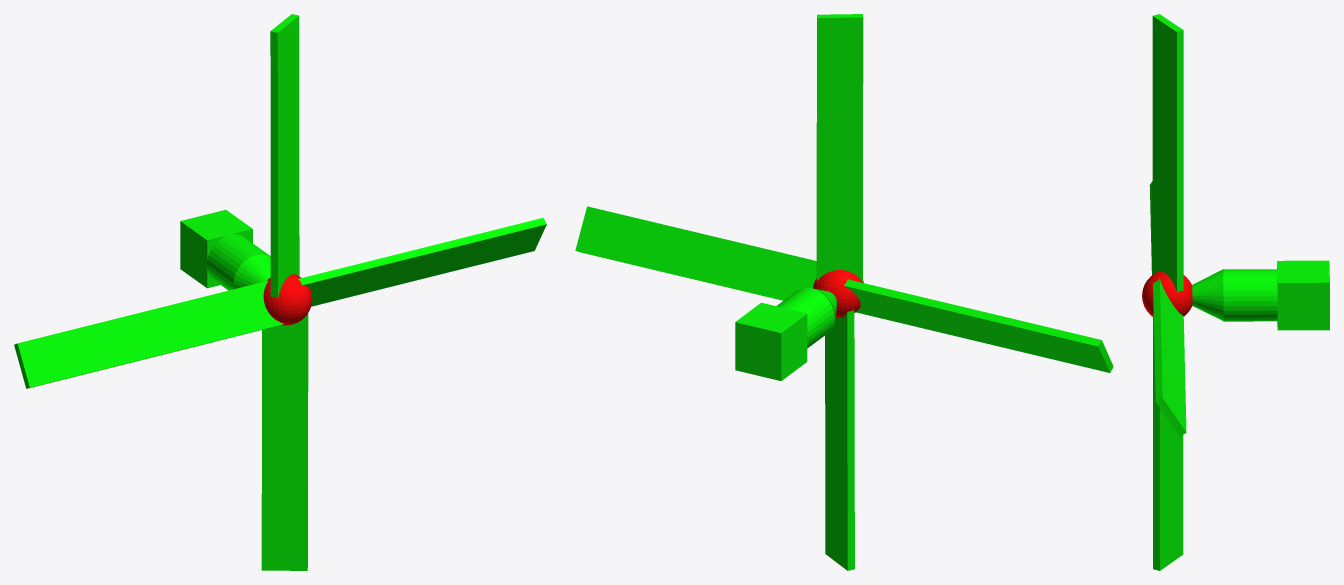
Rendered from Propeller.fbx.
3 views of the same model, side by side, from view 1: azimuth 30°, elevation 25°; view 2: azimuth 150°, elevation 25°; view 3: azimuth 270°, elevation 25° (orthographic).
Parts seen in each view (by area): view 1: Cube.004, Cube.002, Cube.003, Cube.001, Cube, Cylinder, Sphere, Cone; view 2: Cube.003, Cube.001, Cube.004, Cube.002, Cube, Cylinder, Sphere; view 3: Cube.003, Cube.002, Cube.001, Cube, Cylinder, Sphere, Cone.
Boxes of the visible parts, left/top/right/bottom form: Cube.004: left=14, top=280, right=283, bottom=388; Cube.002: left=261, top=313, right=308, bottom=570; Cube.003: left=270, top=14, right=299, bottom=297; Cube.001: left=298, top=218, right=546, bottom=306; Cube: left=180, top=209, right=252, bottom=288; Cylinder: left=207, top=234, right=270, bottom=290; Sphere: left=263, top=274, right=312, bottom=325; Cone: left=233, top=254, right=270, bottom=288; Cube.003: left=816, top=14, right=863, bottom=282; Cube.001: left=575, top=206, right=816, bottom=300; Cube.004: left=844, top=279, right=1113, bottom=372; Cube.002: left=825, top=310, right=854, bottom=570; Cube: left=735, top=302, right=807, bottom=381; Cylinder: left=776, top=287, right=834, bottom=348; Sphere: left=813, top=270, right=863, bottom=317; Cube.003: left=1152, top=14, right=1183, bottom=292; Cube.002: left=1153, top=315, right=1183, bottom=570; Cube.001: left=1153, top=279, right=1186, bottom=436; Cube: left=1277, top=260, right=1329, bottom=330; Cylinder: left=1223, top=269, right=1277, bottom=321; Sphere: left=1142, top=271, right=1192, bottom=316; Cone: left=1192, top=269, right=1223, bottom=320.
Bounding box in the file's own units: 2265 × 2270 × 717.
